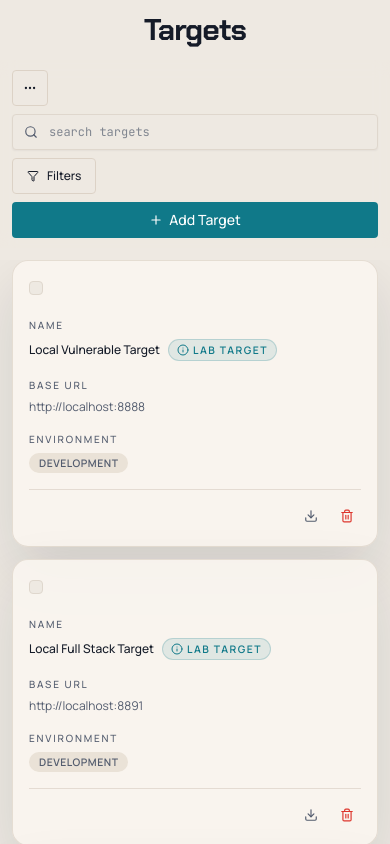
Test: TargetsPage › shows full-stack guidance for the local lab target
Focus the button with aria-label "Show lab target vulnerabilities": point(217, 649) [162,638,271,660]
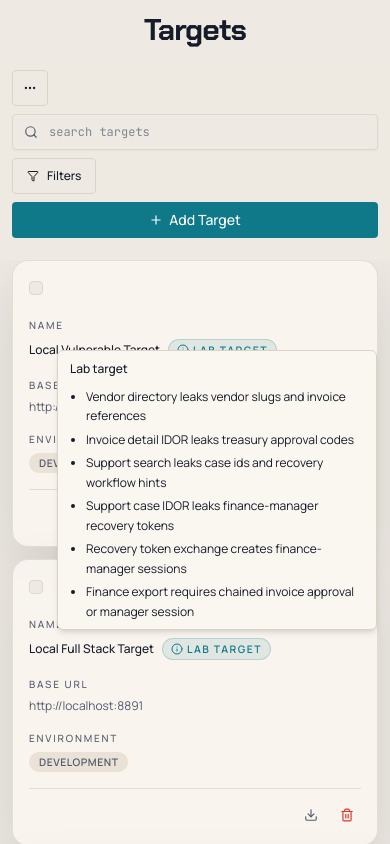
Expected: the tooltip shows "Invoice detail IDOR leaks treasury approval codes", [86,430,354,448]
Expected: the tooltip shows "Recovery token exchange creates finance-manager sessions", [86,540,322,576]
